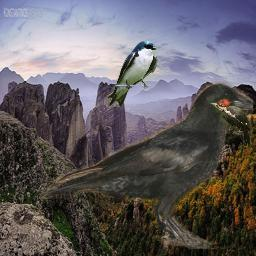Crow: (39, 81, 253, 249)
Swallow: (106, 40, 158, 107)
Woodpecker: (208, 97, 255, 148)
